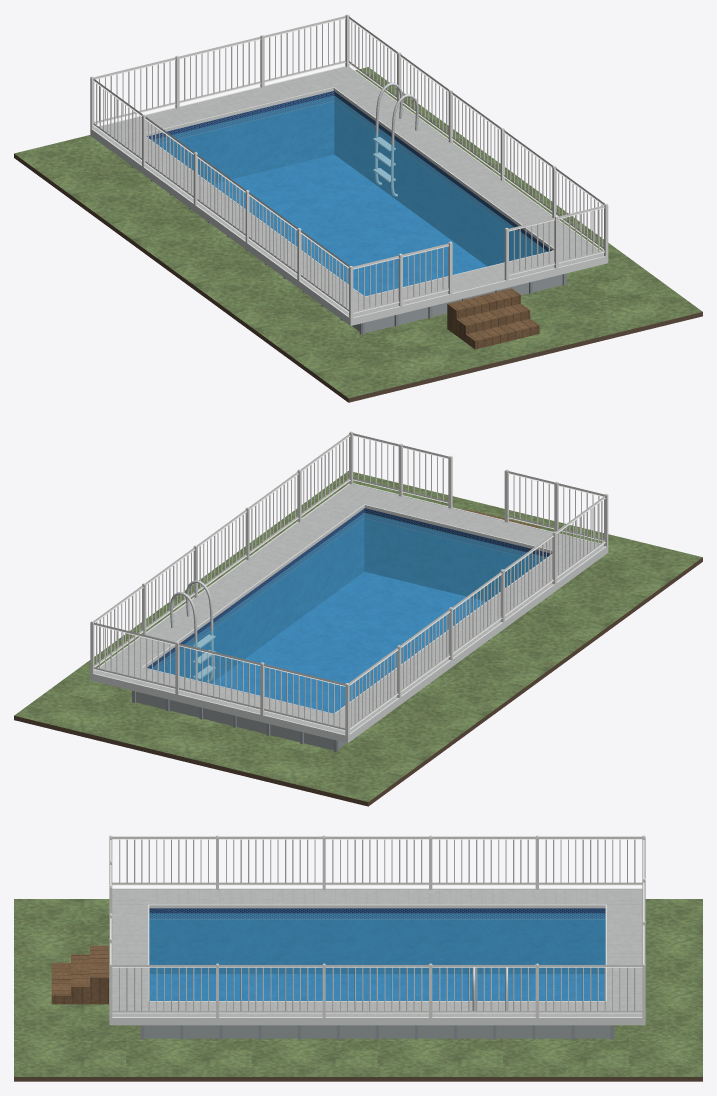
Rendered from kayak-pool-12x24-gray-walk-rec-fence.80cc0dd266.glb.
3 renders of one model, top to bottom at view 1: azimuth 30°, elevation 25°; view 2: azimuth 150°, elevation 25°; view 3: azimuth 270°, elevation 25°, orthographic. The views are drawn at different scales.
Parts seen in each view (by area): view 1: ground, water, fence, liner_wall, deck, liner_floor, fascia, steps, soil, wall, steel; view 2: ground, water, fence, liner_wall, deck, liner_floor, fascia, soil, wall, steel; view 3: ground, water, liner_wall, deck, fence, liner_floor, fascia, wall, soil, steps, upright.
Boxes of the visible parts, x1,y1,x2,y2 form: ground: [14, 67, 702, 398]; water: [152, 95, 547, 296]; fence: [90, 14, 608, 318]; liner_wall: [146, 91, 551, 266]; deck: [93, 67, 603, 317]; liner_floor: [212, 154, 486, 296]; fascia: [90, 66, 608, 325]; steps: [447, 288, 539, 349]; soil: [14, 154, 702, 402]; wall: [352, 274, 562, 333]; steel: [373, 82, 418, 196]; ground: [14, 471, 702, 801]; water: [151, 512, 545, 713]; fence: [90, 431, 608, 735]; liner_wall: [147, 508, 551, 683]; deck: [94, 484, 604, 734]; liner_floor: [211, 571, 486, 713]; fascia: [90, 483, 608, 743]; soil: [14, 557, 702, 806]; wall: [136, 691, 346, 750]; steel: [170, 580, 215, 682]; ground: [14, 899, 702, 1076]; water: [149, 913, 605, 1000]; liner_wall: [149, 908, 605, 974]; deck: [112, 889, 642, 1016]; fence: [109, 835, 645, 1017]; liner_floor: [150, 974, 604, 1000]; fascia: [109, 888, 645, 1025]; wall: [144, 1025, 610, 1038]; soil: [14, 1077, 702, 1081]; steps: [51, 945, 108, 1004]; upright: [140, 1025, 614, 1039].
Size of the model in its own units: 6.71 by 2.15 by 10.97.
Materials: 13 (5 with a texture image).
